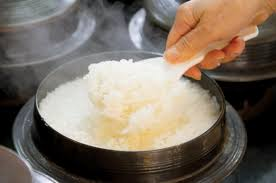ssalbab: (37, 56, 223, 151)
